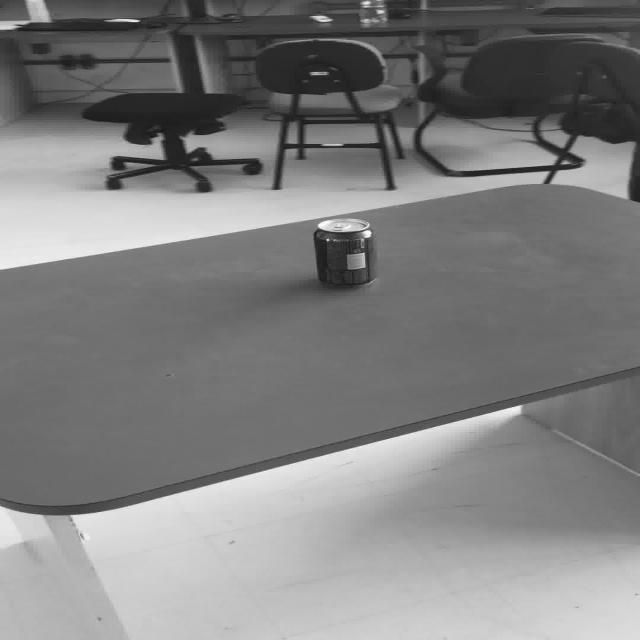tonic: (312, 217, 377, 286), (358, 0, 387, 23)
